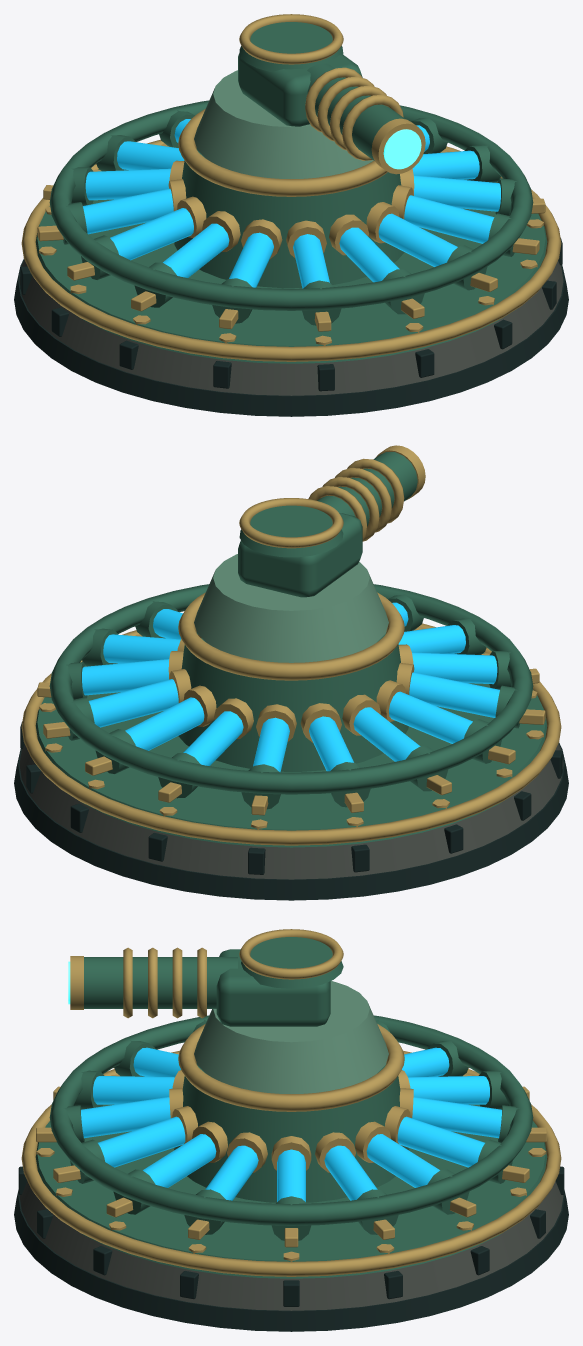
Rendered from warrior-5.glb.
3 renders of one model, top to bottom at view 1: azimuth 30°, elevation 25°; view 2: azimuth 150°, elevation 25°; view 3: azimuth 270°, elevation 25°, orthographic.
Visible parts, largest first — view 1: warrior-5, turret-yaw, barrels-recoil; view 2: warrior-5, turret-yaw, barrels-recoil; view 3: warrior-5, turret-yaw, barrels-recoil.
Part boxes in pixels (x1,y1,x2,y2): warrior-5: (14,100,568,416); turret-yaw: (194,14,373,178); barrels-recoil: (305,63,425,174); warrior-5: (14,584,568,900); turret-yaw: (194,498,388,662); barrels-recoil: (308,445,425,541); warrior-5: (14,1015,568,1331); turret-yaw: (194,929,388,1093); barrels-recoil: (68,947,237,1018).
Size of the model in its own units: 0.8888 by 0.4674 by 0.8888.
